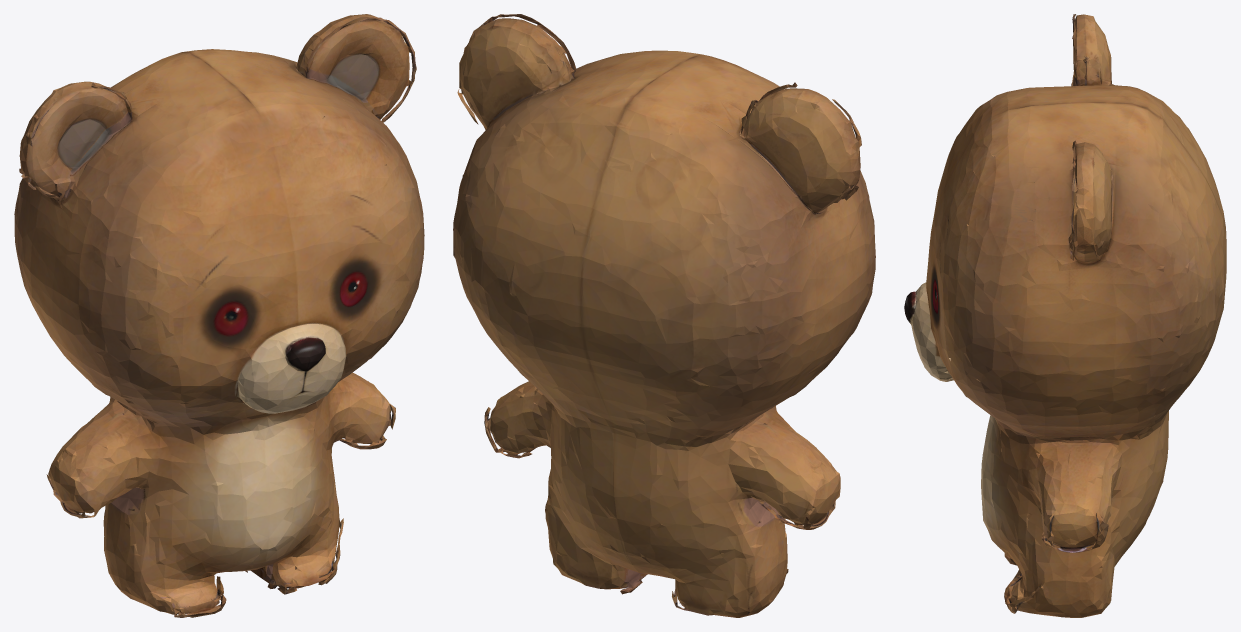
File: Teddy_Shadows_0501110214_texture.fbx
The picture shows the model from 3 angles, left to right: view 1: azimuth 30°, elevation 25°; view 2: azimuth 150°, elevation 25°; view 3: azimuth 270°, elevation 25°; orthographic projection. The views are drawn at different scales.
Parts seen in each view (by area): view 1: temp; view 2: temp; view 3: temp.
Boxes of the visible parts, box(x1,y1,x2,y2) form: temp: box(14, 14, 424, 617); temp: box(453, 14, 875, 617); temp: box(904, 14, 1226, 617).
Bounding box in the file's own units: 154 × 198 × 116.
Materials: 1 (1 with a texture image).
